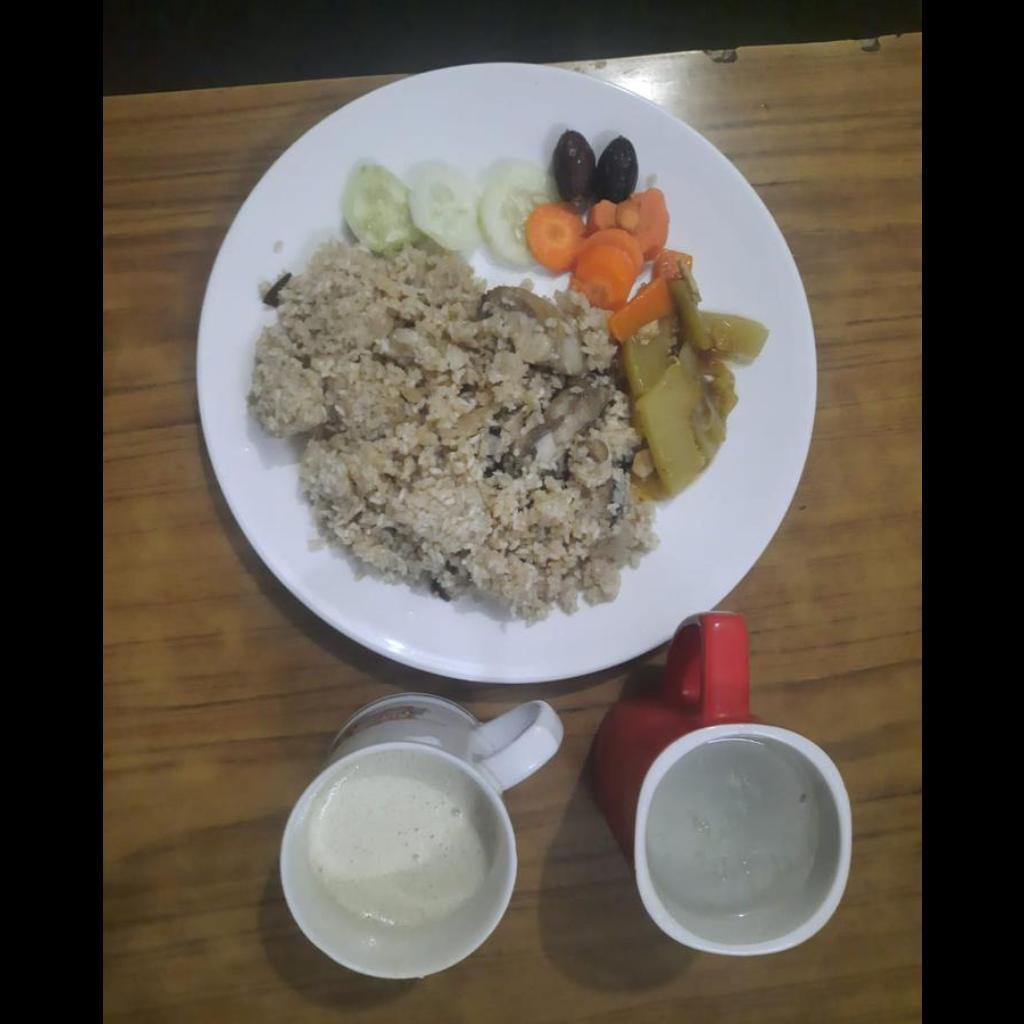biriyani: (246, 257, 656, 621)
carrot: (524, 187, 688, 341)
cucumber: (341, 158, 549, 271)
dates: (552, 128, 638, 195)
juice: (645, 737, 838, 945)
milk: (315, 767, 496, 927)
papaya: (621, 270, 765, 501)
